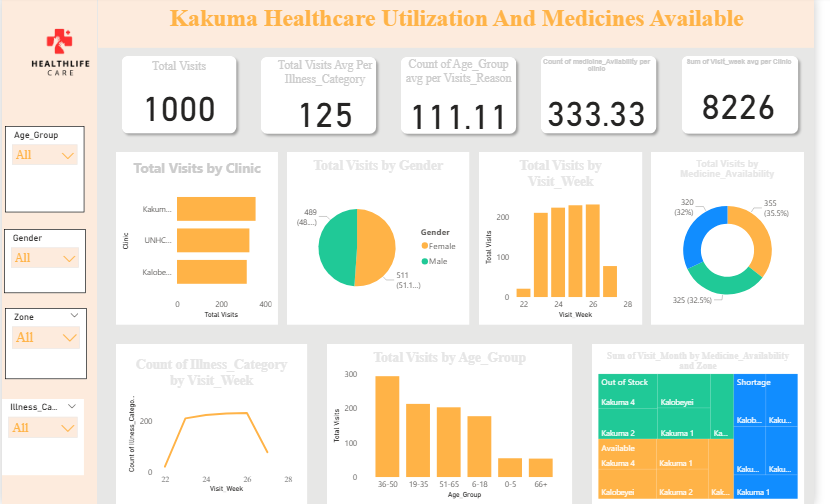

The page's visual inventory and layout, read from the dashboard file:
{"tool":"powerbi","page":{"name":"Page 1","canvas":[1280,800],"ordinal":0},"visuals":[{"type":"shape","box":[0,0,149.6,800],"z":0},{"type":"shape","box":[398.8,84.6,199.7,139.1],"z":1000},{"type":"shape","box":[179.5,84.1,198.4,140.2],"z":2000},{"type":"shape","box":[619.3,84.6,199.7,139.1],"z":3000},{"type":"shape","box":[839.8,84.1,200,140.2],"z":4000},{"type":"shape","box":[1060.7,83.8,201.3,140.8],"z":5000},{"type":"textbox","box":[150.6,0,1129.4,80.2],"z":6000},{"type":"clusteredBarChart","fields":{"Category":["clean_kakuma_healthcare_visits.Clinic"],"Y":["clean_kakuma_healthcare_visits.Total Visits"]},"box":[179.5,244.1,255.1,272.4],"z":7000},{"type":"pieChart","fields":{"Category":["clean_kakuma_healthcare_visits.Gender"],"Y":["clean_kakuma_healthcare_visits.Total Visits"]},"box":[449.3,244.1,286.6,272.4],"z":8000},{"type":"lineStackedColumnComboChart","fields":{"Y":["clean_kakuma_healthcare_visits.Total Visits"],"Category":["clean_kakuma_healthcare_visits.Visit_Week"]},"box":[750.7,244.1,256.7,272.4],"z":9000},{"type":"lineChart","fields":{"Category":["clean_kakuma_healthcare_visits.Visit_Week"],"Y":["CountNonNull(clean_kakuma_healthcare_visits.Illness_Category)"]},"box":[179.5,546.5,300.8,253.5],"z":10000},{"type":"card","title":"Total Visits","fields":{"Values":["clean_kakuma_healthcare_visits.Total Visits"]},"box":[179.5,83.5,198.4,140.2],"z":11000},{"type":"slicer","fields":{"Values":["clean_kakuma_healthcare_visits.Age_Group"]},"box":[5,203.8,125,136.2],"z":12000},{"type":"slicer","fields":{"Values":["clean_kakuma_healthcare_visits.Gender"]},"box":[3.1,365.4,129.1,100.8],"z":13000},{"type":"slicer","fields":{"Values":["clean_kakuma_healthcare_visits.Zone"]},"box":[4.7,489.8,129.1,111.8],"z":14000},{"type":"slicer","fields":{"Values":["clean_kakuma_healthcare_visits.Illness_Category"]},"box":[0,633.1,129.1,119.7],"z":15000},{"type":"clusteredColumnChart","fields":{"Category":["clean_kakuma_healthcare_visits.Age_Group"],"Y":["clean_kakuma_healthcare_visits.Total Visits"]},"box":[511.8,546.5,385.8,253.5],"z":16000},{"type":"treemap","fields":{"Group":["clean_kakuma_healthcare_visits.Medicine_Availability"],"Values":["Sum(clean_kakuma_healthcare_visits.Visit_Month)"],"Details":["clean_kakuma_healthcare_visits.Zone"]},"box":[929.1,546.5,333.9,253.5],"z":17000},{"type":"donutChart","fields":{"Category":["clean_kakuma_healthcare_visits.Medicine_Availability"],"Y":["clean_kakuma_healthcare_visits.Total Visits"]},"box":[1022,244.1,240.9,272.4],"z":18000},{"type":"card","title":"Total Visits Avg Per Illness_Category","fields":{"Values":["clean_kakuma_healthcare_visits.Total Visits average per Illness_Category"]},"box":[398.4,80.3,220.5,143.3],"z":19000},{"type":"card","title":"Count of Age_Group avg per Visits_Reason","fields":{"Values":["clean_kakuma_healthcare_visits.Count of Age_Group average per Visit_Reason"]},"box":[618.9,85,200,148],"z":20000},{"type":"card","title":"Count of medicine_Avilability per clinic","fields":{"Values":["clean_kakuma_healthcare_visits.Count of Medicine_Availability average per Clinic"]},"box":[833.1,85,206.3,155.9],"z":21000},{"type":"card","title":"Sum of Visit_week avg per Clinic","fields":{"Values":["clean_kakuma_healthcare_visits.Sum of Visit_Week average per Clinic"]},"box":[1063,77.2,193.7,152.8],"z":22000},{"type":"image","box":[0,0,183.8,176.2],"z":23000}]}

Visuals, with their boxes in screenshot pixels (x1, y1, x2, y2), scaled from the page's 1280x800 canvas onto the 830x504 screenshot:
shape: crop(0, 0, 97, 503)
shape: crop(259, 53, 388, 141)
shape: crop(116, 53, 245, 141)
shape: crop(402, 53, 531, 141)
shape: crop(545, 53, 674, 141)
shape: crop(688, 53, 818, 141)
textbox: crop(98, 0, 829, 51)
clusteredBarChart - clean_kakuma_healthcare_visits.Clinic x clean_kakuma_healthcare_visits.Total Visits: crop(116, 154, 282, 325)
pieChart - clean_kakuma_healthcare_visits.Gender x clean_kakuma_healthcare_visits.Total Visits: crop(291, 154, 477, 325)
lineStackedColumnComboChart - clean_kakuma_healthcare_visits.Total Visits x clean_kakuma_healthcare_visits.Visit_Week: crop(487, 154, 653, 325)
lineChart - clean_kakuma_healthcare_visits.Visit_Week x CountNonNull(clean_kakuma_healthcare_visits.Illness_Category): crop(116, 344, 311, 503)
"Total Visits" card: crop(116, 53, 245, 141)
slicer - clean_kakuma_healthcare_visits.Age_Group: crop(3, 128, 84, 214)
slicer - clean_kakuma_healthcare_visits.Gender: crop(2, 230, 86, 294)
slicer - clean_kakuma_healthcare_visits.Zone: crop(3, 309, 87, 379)
slicer - clean_kakuma_healthcare_visits.Illness_Category: crop(0, 399, 84, 474)
clusteredColumnChart - clean_kakuma_healthcare_visits.Age_Group x clean_kakuma_healthcare_visits.Total Visits: crop(332, 344, 582, 503)
treemap - clean_kakuma_healthcare_visits.Medicine_Availability x Sum(clean_kakuma_healthcare_visits.Visit_Month): crop(602, 344, 819, 503)
donutChart - clean_kakuma_healthcare_visits.Medicine_Availability x clean_kakuma_healthcare_visits.Total Visits: crop(663, 154, 819, 325)
"Total Visits Avg Per Illness_Category" card: crop(258, 51, 401, 141)
"Count of Age_Group avg per Visits_Reason" card: crop(401, 54, 531, 147)
"Count of medicine_Avilability per clinic" card: crop(540, 54, 674, 152)
"Sum of Visit_week avg per Clinic" card: crop(689, 49, 815, 145)
image: crop(0, 0, 119, 111)
